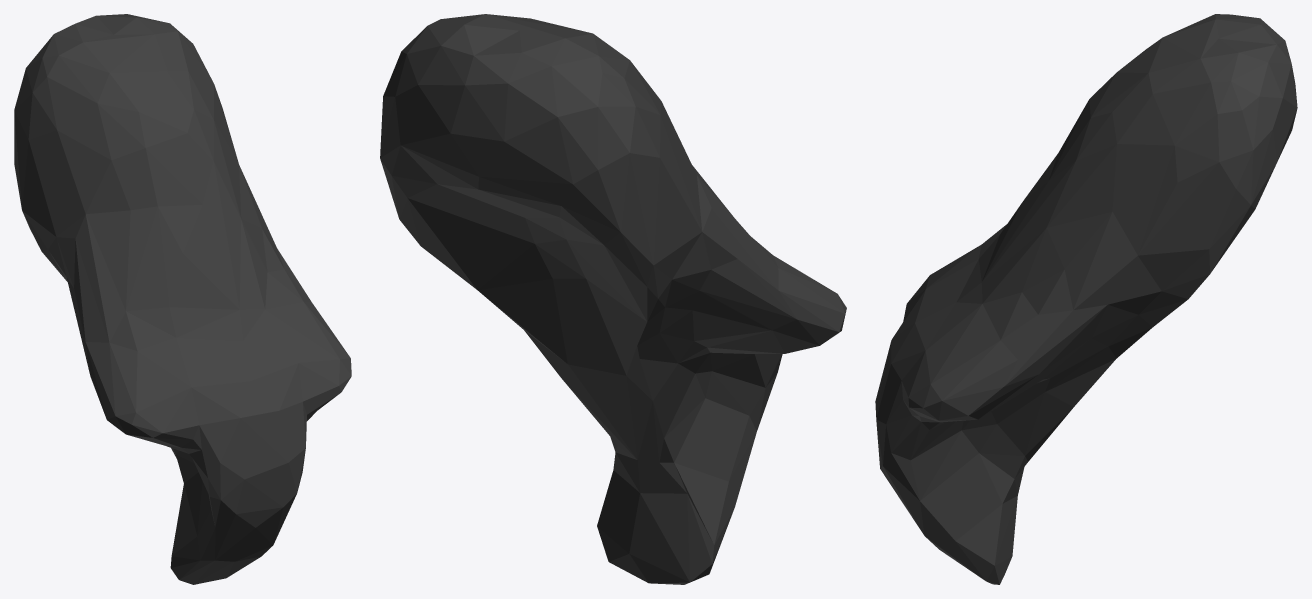
File: cartilage_dorsal_nasal.glb
3 renders of one model, left to right at view 1: azimuth 30°, elevation 25°; view 2: azimuth 150°, elevation 25°; view 3: azimuth 270°, elevation 25°, orthographic. The views are drawn at different scales.
Parts seen in each view (by area): view 1: cartilage_dorsal_nasal; view 2: cartilage_dorsal_nasal; view 3: cartilage_dorsal_nasal.
Boxes of the visible parts, box(x1,y1,x2,y2) form: cartilage_dorsal_nasal: box(14, 14, 351, 584); cartilage_dorsal_nasal: box(380, 14, 846, 584); cartilage_dorsal_nasal: box(875, 14, 1297, 584).
Bounding box in the file's own units: 0.00127 × 0.00242 × 0.00171.
1 material, 1 textured.
